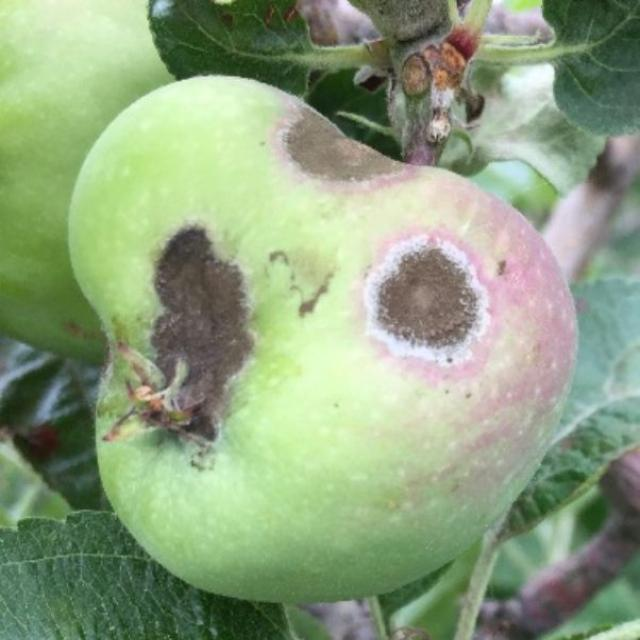Rotten Apple: (64, 54, 599, 598)
